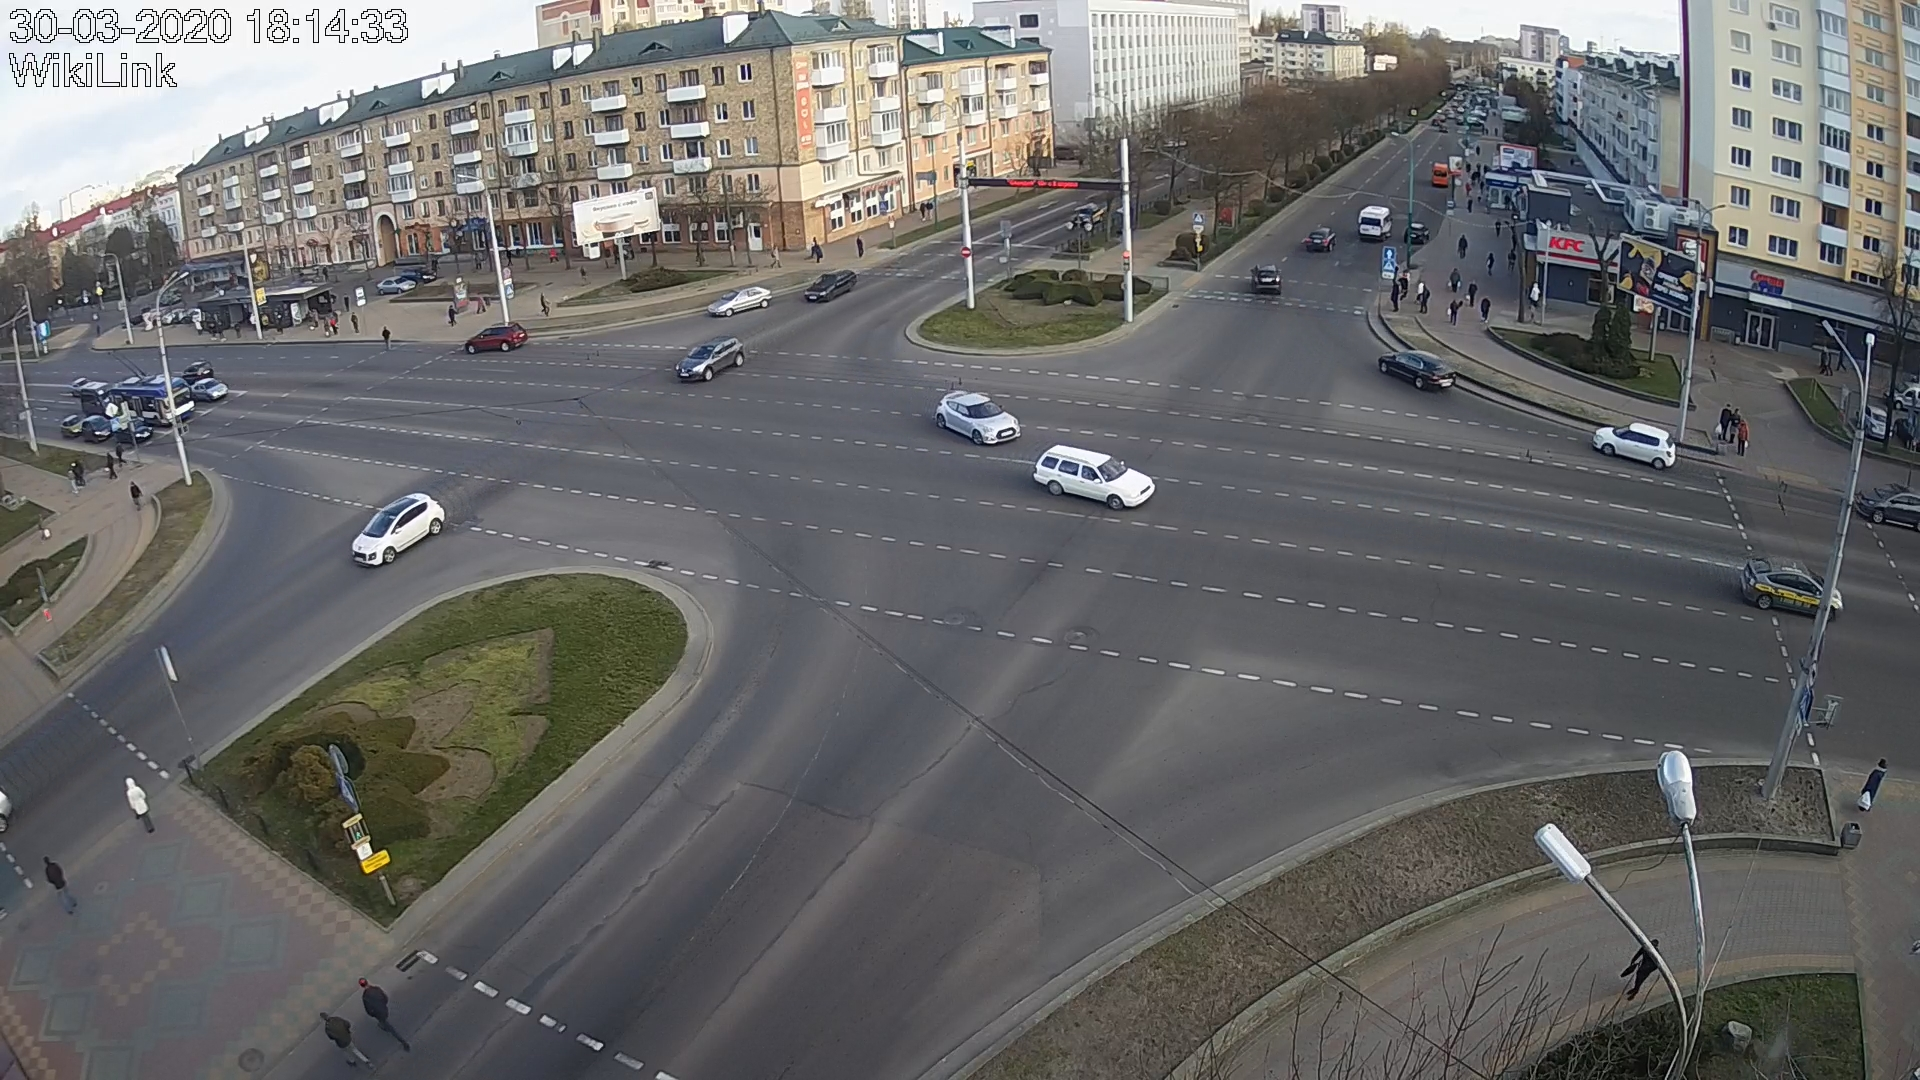bus: (111, 376, 195, 425)
car: (1033, 444, 1156, 512), (351, 491, 446, 567), (1741, 556, 1844, 620), (936, 390, 1021, 444), (1592, 422, 1677, 469), (1378, 349, 1456, 392), (675, 335, 744, 381), (1855, 483, 1920, 531), (708, 285, 771, 316), (465, 322, 527, 353), (804, 270, 857, 302), (80, 382, 113, 415), (113, 419, 152, 444), (80, 415, 113, 443), (190, 378, 229, 401), (1251, 264, 1280, 294), (1305, 227, 1337, 251)
